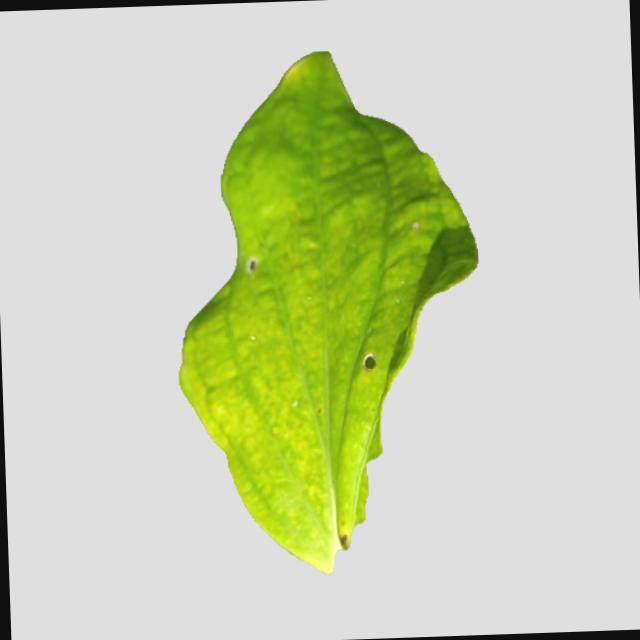yellow-mottle-virus: (132, 36, 548, 567)
